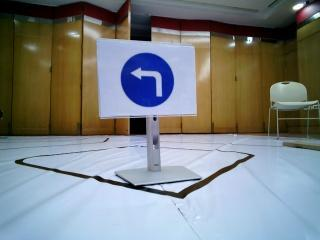left: (103, 43, 193, 110)
